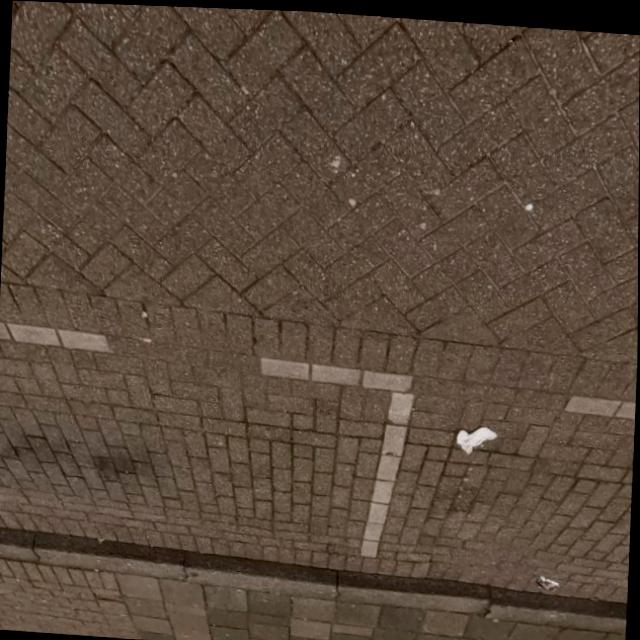Paper: (454, 419, 499, 455), (536, 570, 561, 587)
